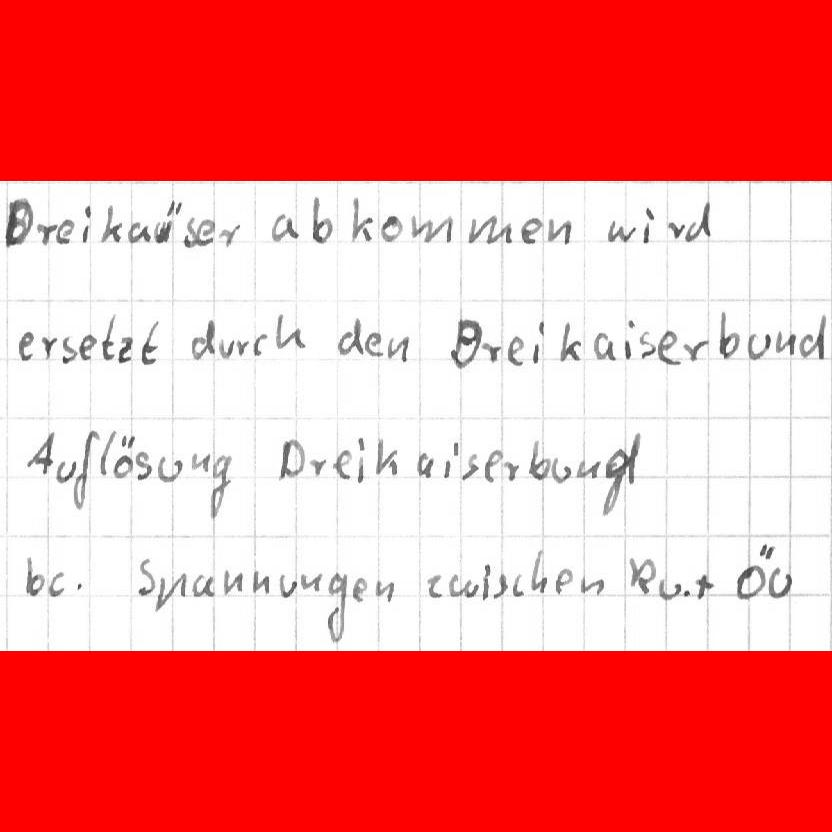Char: (604, 430, 640, 517), (735, 537, 772, 600), (73, 432, 98, 509), (446, 317, 481, 369), (326, 569, 348, 643), (2, 195, 33, 246), (208, 454, 232, 518), (467, 215, 514, 246), (408, 212, 452, 245), (154, 198, 182, 246), (308, 194, 334, 245), (274, 311, 307, 351), (154, 573, 185, 615), (25, 431, 54, 475), (336, 314, 364, 359), (277, 437, 305, 480), (349, 196, 374, 244), (558, 319, 584, 365), (717, 308, 740, 360), (628, 555, 655, 598), (373, 436, 400, 477), (191, 316, 216, 360), (685, 201, 711, 243), (114, 430, 134, 481), (101, 202, 125, 243), (139, 320, 160, 365), (527, 440, 549, 482), (23, 554, 45, 595), (529, 548, 548, 595), (270, 211, 297, 244), (98, 429, 116, 478), (547, 215, 575, 246), (446, 572, 479, 598), (767, 565, 793, 598), (657, 329, 680, 365), (608, 218, 636, 246), (101, 311, 116, 362), (747, 330, 773, 359), (505, 333, 526, 367), (593, 330, 616, 361), (135, 559, 154, 596), (157, 455, 183, 482), (386, 333, 408, 363), (684, 337, 710, 362), (216, 221, 240, 248), (333, 448, 352, 482), (532, 319, 546, 365), (194, 216, 214, 248), (381, 213, 403, 242), (799, 328, 820, 358), (442, 439, 458, 478), (191, 571, 214, 598), (222, 568, 244, 596), (128, 219, 152, 244), (54, 459, 78, 484), (484, 448, 501, 483), (520, 216, 542, 243), (775, 329, 796, 357), (460, 453, 480, 482), (18, 329, 36, 361), (219, 338, 245, 360), (374, 577, 396, 603), (251, 568, 271, 596), (637, 329, 655, 360), (78, 332, 97, 361), (576, 457, 601, 479), (694, 571, 716, 596), (424, 572, 445, 598), (580, 574, 606, 595), (641, 208, 656, 244), (135, 451, 153, 481), (56, 217, 75, 245), (354, 436, 365, 484), (189, 451, 211, 475), (277, 571, 298, 596), (350, 573, 368, 602), (553, 569, 573, 595), (656, 579, 679, 601), (366, 330, 384, 358), (49, 569, 67, 597), (623, 319, 635, 360), (251, 330, 269, 357), (40, 334, 58, 361), (300, 569, 321, 592), (551, 459, 572, 482), (183, 216, 198, 248), (60, 336, 77, 364), (36, 220, 55, 245), (416, 452, 435, 477), (80, 207, 93, 243), (510, 570, 526, 598), (117, 335, 133, 362), (309, 455, 328, 477), (492, 573, 508, 599), (484, 342, 502, 364), (666, 220, 685, 240), (504, 459, 521, 481), (481, 563, 490, 601), (72, 578, 87, 592), (683, 586, 691, 599)
